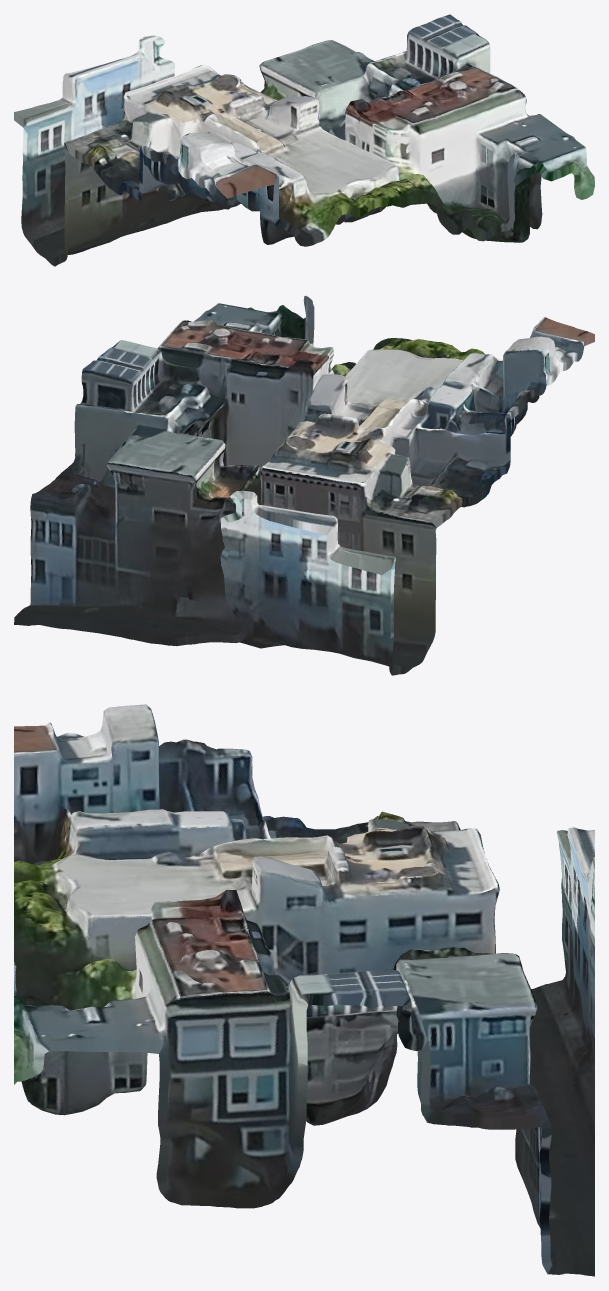
The model's file is z20-167750-405192-h0-yup-uvflip-v3-world.glb.
3 renders of one model, top to bottom at view 1: azimuth 30°, elevation 25°; view 2: azimuth 150°, elevation 25°; view 3: azimuth 270°, elevation 25°, orthographic. The views are drawn at different scales.
Size of the model in its own units: 30.2 by 19.04 by 30.32.
Materials: 1 (1 with a texture image).
